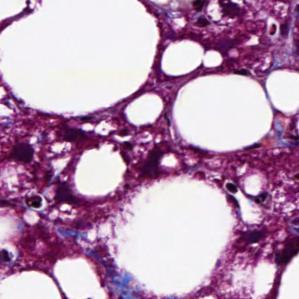inflammation: (1, 133, 58, 183)
